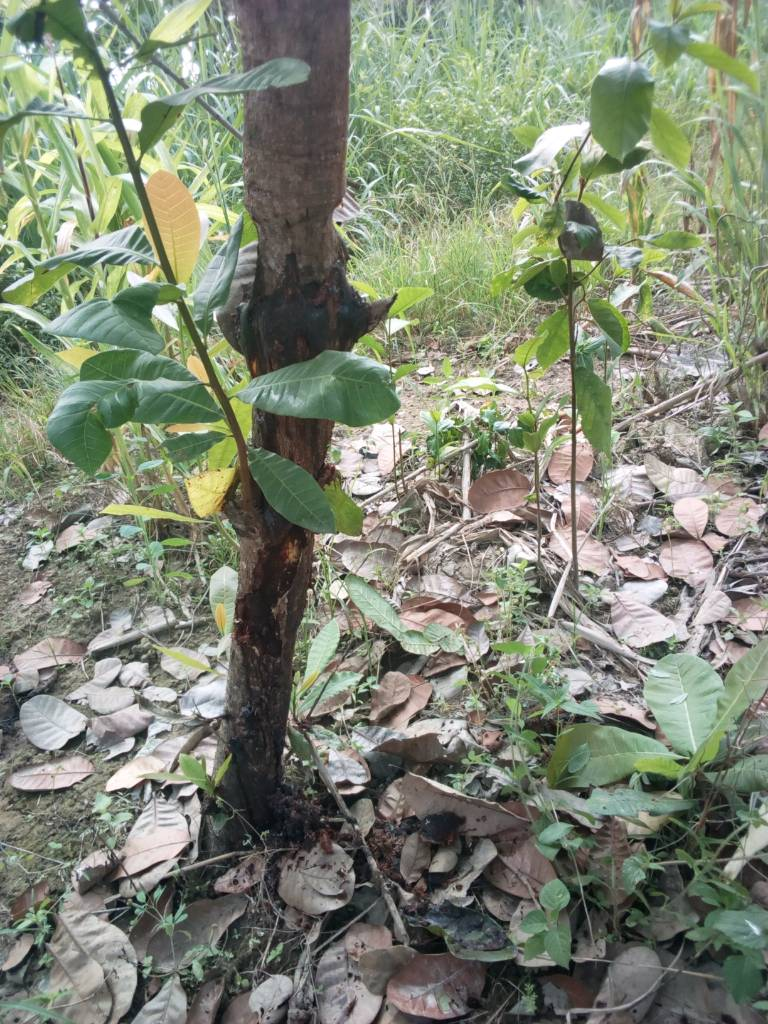Gommose: (240, 546, 305, 791), (236, 264, 375, 355)
